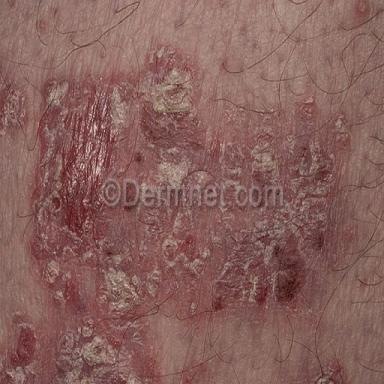Psoriasis: (0, 44, 354, 384)
